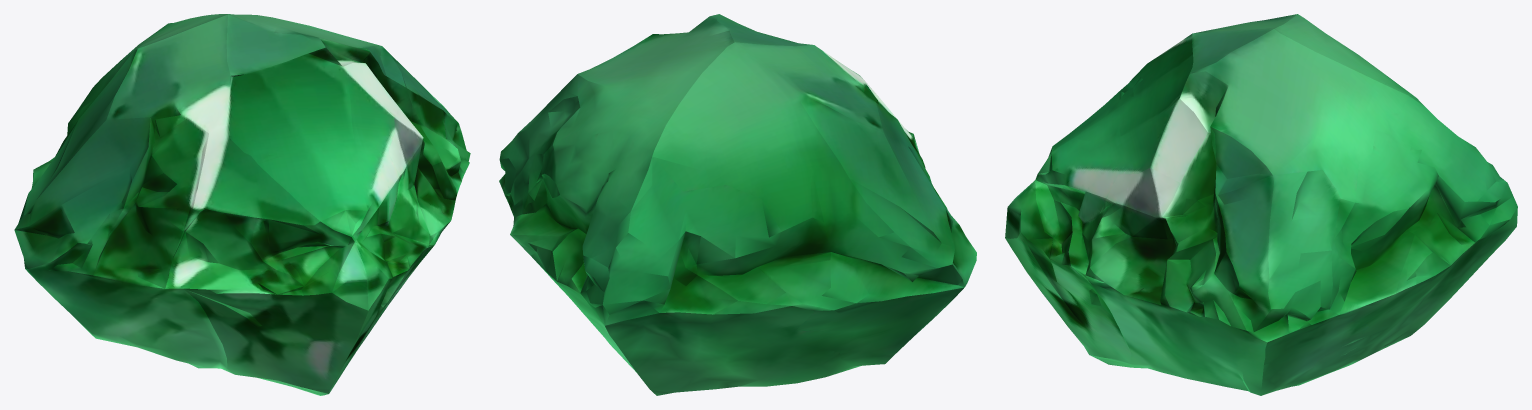
File: m2JungleEmerald.glb
3 views of the same model, side by side, from view 1: azimuth 30°, elevation 25°; view 2: azimuth 150°, elevation 25°; view 3: azimuth 270°, elevation 25° (orthographic). The views are drawn at different scales.
Parts seen in each view (by area): view 1: model; view 2: model; view 3: model.
Part boxes in pixels (box(x1,y1,x2,y2)): model: box(14, 14, 470, 395); model: box(499, 14, 976, 395); model: box(1005, 14, 1517, 395).
Size of the model in its own units: 1.9 by 1.35 by 1.86.
Materials: 1 (1 with a texture image).
